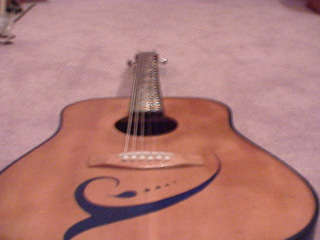guitar: (1, 48, 320, 240)
